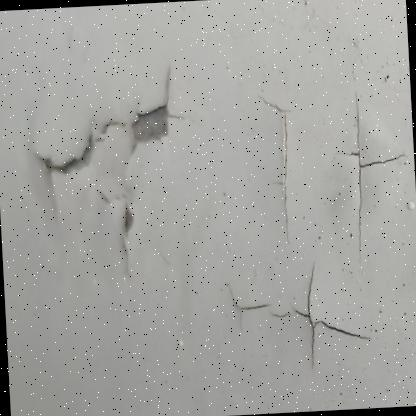Crack: (16, 47, 203, 293), (216, 254, 384, 386), (326, 84, 414, 280), (244, 78, 308, 258)
